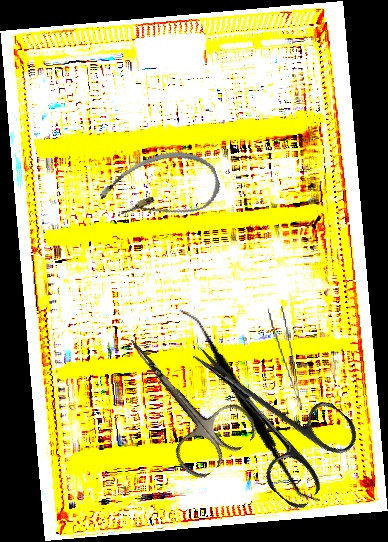Cannula: (93, 139, 227, 240)
Iris Scissors: (161, 314, 368, 514), (99, 311, 263, 486)
Spatula Surgical: (128, 304, 371, 506)
Tissue Forceps: (267, 305, 303, 413)
